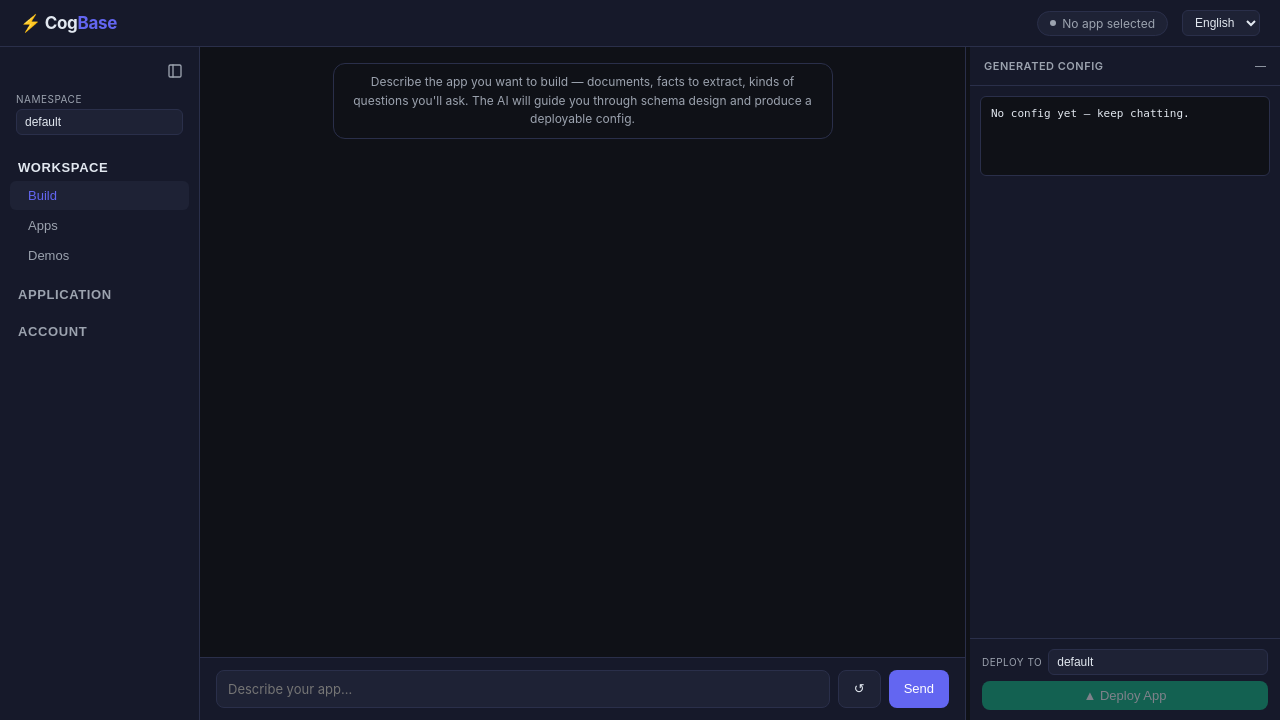
Test: Layout — focus-driven sidebar › the Apps tab is scoped to the working namespace and "Use" selects within it
Expected: the dropdown labelled "Namespace" holds "default", [16,109,183,135]
Step 1. Click the button "Apps" → [100, 226], box [10,211,189,240]
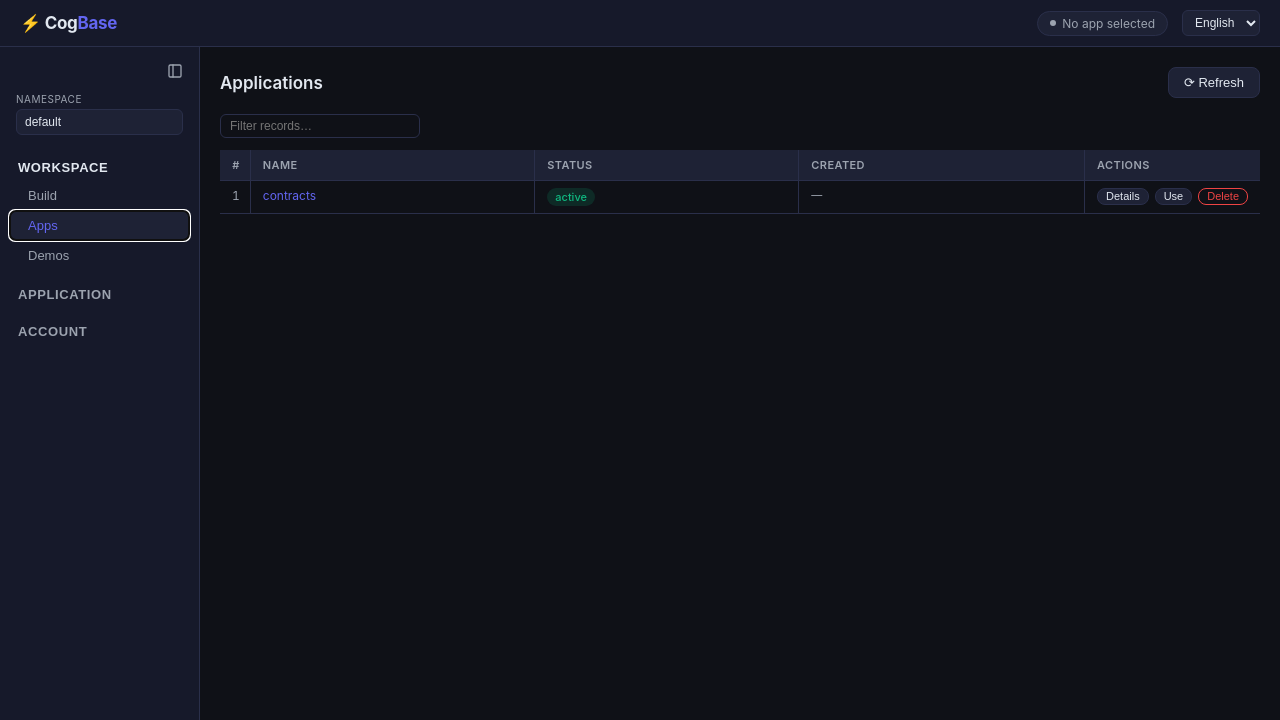
Step 2. Click the button "Use" → [1173, 196], box [1155,188,1192,205]
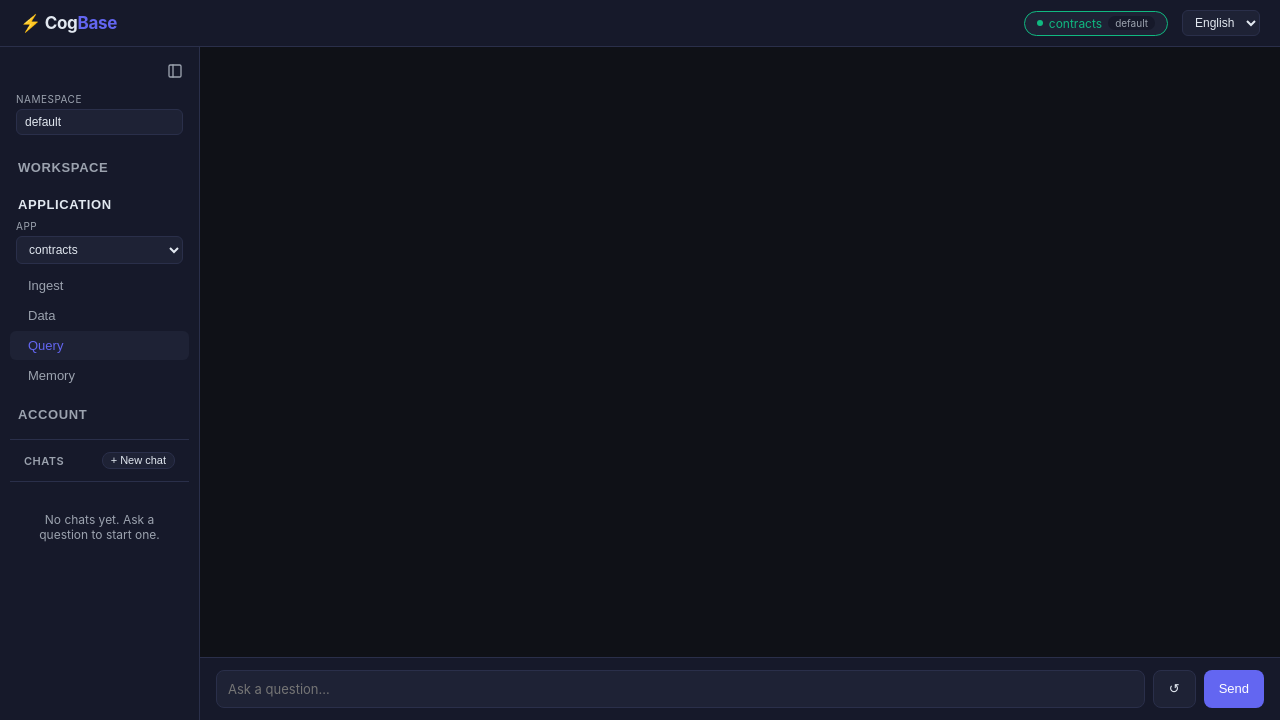
Expected: the dropdown labelled "Namespace" holds "default", [16,109,183,135]
Expected: the button "Query" is shown, [10,331,189,360]
